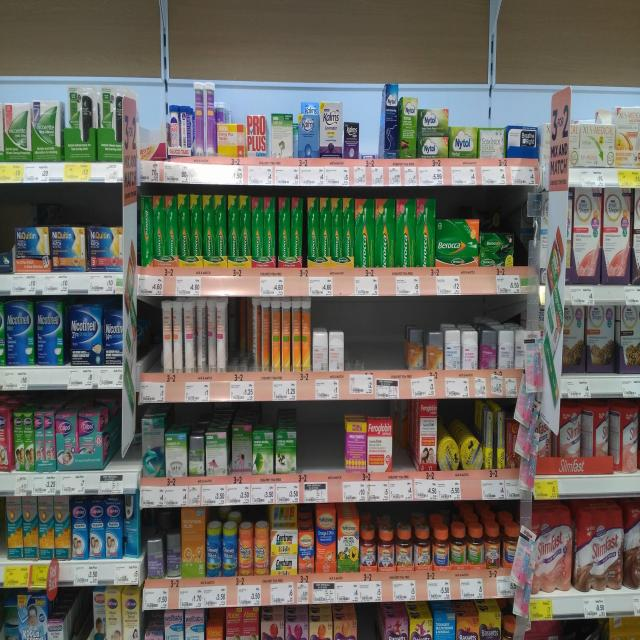empty_space: (347, 308, 403, 369), (304, 417, 340, 471), (142, 304, 158, 368), (397, 429, 413, 463)
